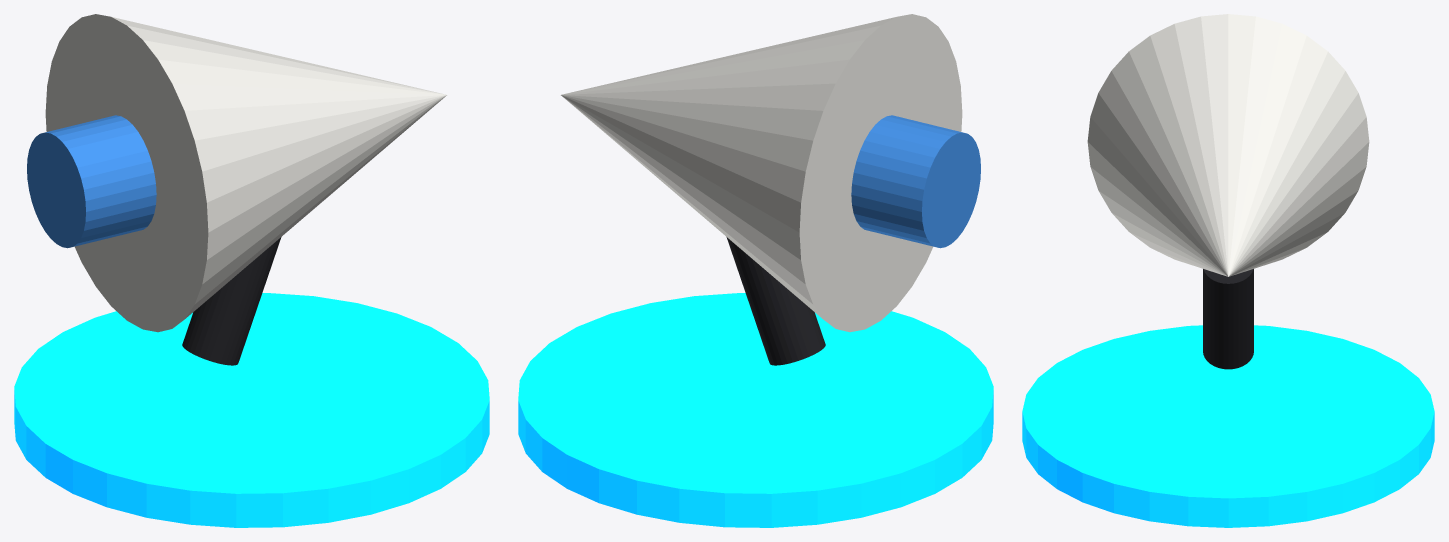
File: news_megaphone.glb
The picture shows the model from 3 angles, left to right: view 1: azimuth 30°, elevation 25°; view 2: azimuth 150°, elevation 25°; view 3: azimuth 270°, elevation 25°; orthographic projection. The views are drawn at different scales.
Visible parts, largest first — view 1: 09_08_Popular_News_Megaphone_ROOT_base, 09_08_Popular_News_Megaphone_part_01, 09_08_Popular_News_Megaphone_part_02, 09_08_Popular_News_Megaphone_part_03; view 2: 09_08_Popular_News_Megaphone_ROOT_base, 09_08_Popular_News_Megaphone_part_01, 09_08_Popular_News_Megaphone_part_02, 09_08_Popular_News_Megaphone_part_03; view 3: 09_08_Popular_News_Megaphone_ROOT_base, 09_08_Popular_News_Megaphone_part_01, 09_08_Popular_News_Megaphone_part_03.
Part boxes in pixels (box(x1,y1,x2,y2)): 09_08_Popular_News_Megaphone_ROOT_base: box(14, 293, 489, 527); 09_08_Popular_News_Megaphone_part_01: box(45, 14, 446, 332); 09_08_Popular_News_Megaphone_part_02: box(27, 115, 156, 248); 09_08_Popular_News_Megaphone_part_03: box(182, 237, 281, 365); 09_08_Popular_News_Megaphone_ROOT_base: box(518, 293, 993, 527); 09_08_Popular_News_Megaphone_part_01: box(561, 14, 962, 332); 09_08_Popular_News_Megaphone_part_02: box(851, 115, 980, 248); 09_08_Popular_News_Megaphone_part_03: box(726, 237, 825, 365); 09_08_Popular_News_Megaphone_ROOT_base: box(1022, 325, 1434, 527); 09_08_Popular_News_Megaphone_part_01: box(1087, 14, 1369, 276); 09_08_Popular_News_Megaphone_part_03: box(1203, 269, 1253, 369).
Bounding box in the file's own units: 0.76 × 0.7609 × 0.76.
